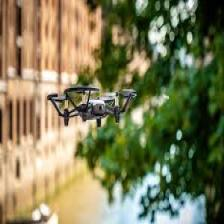drone: (47, 84, 136, 125)
